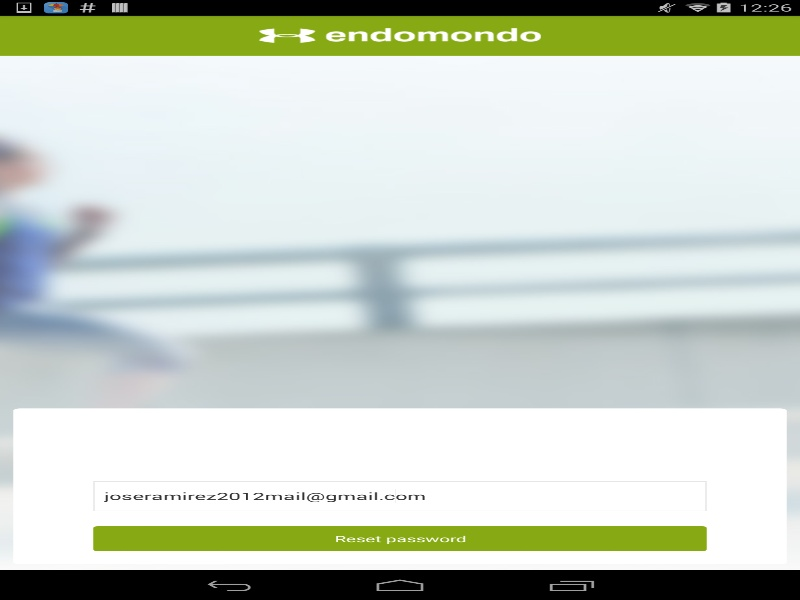Input: (93, 481, 706, 511)
